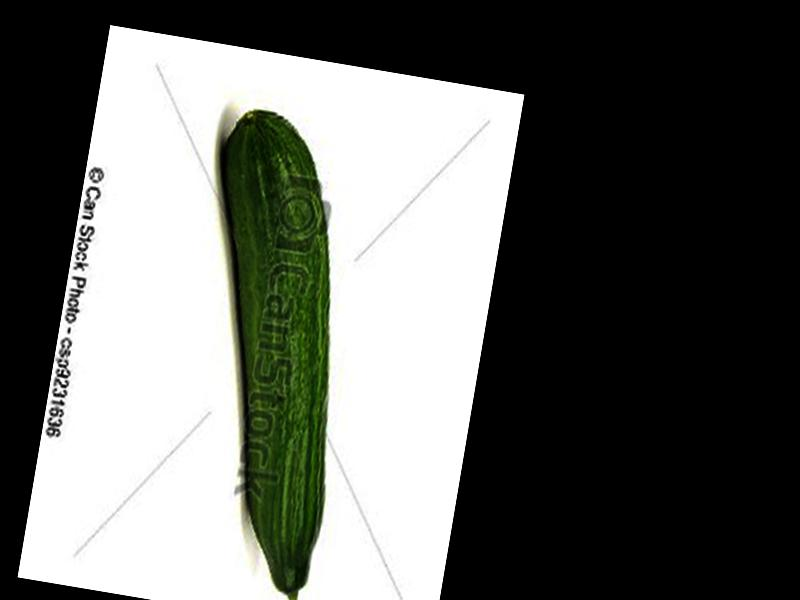Cucumber: (151, 108, 384, 600)
